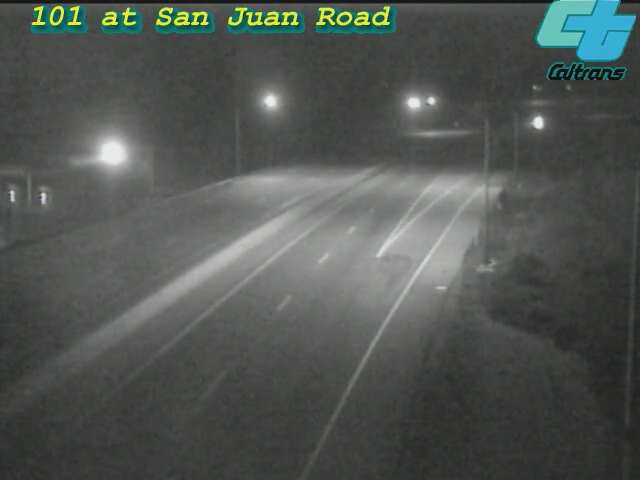vehicle: (515, 98, 565, 148)
